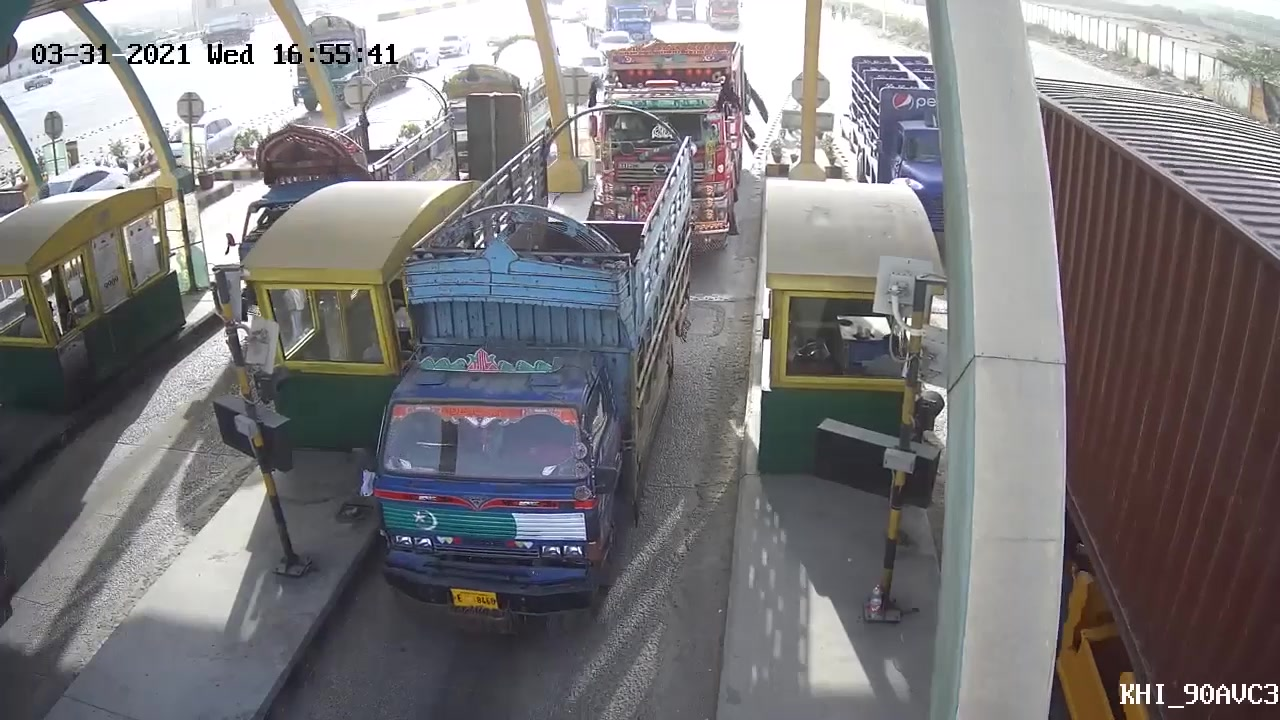F3: (353, 117, 692, 628)
